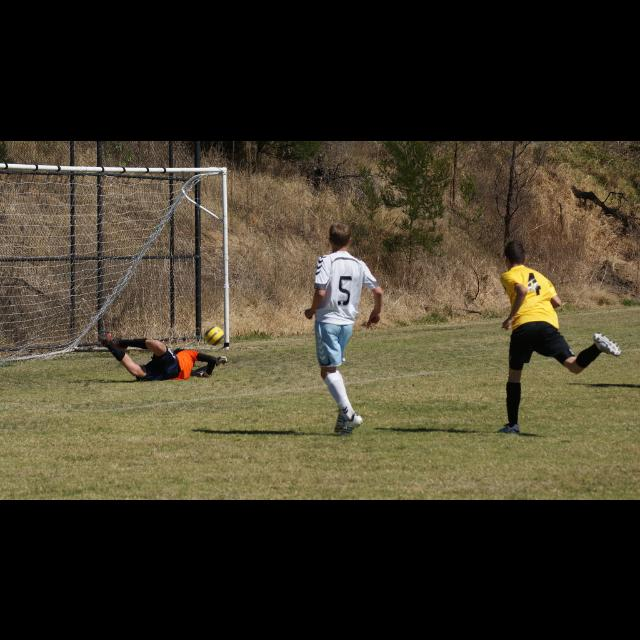Football: (204, 322, 224, 344)
